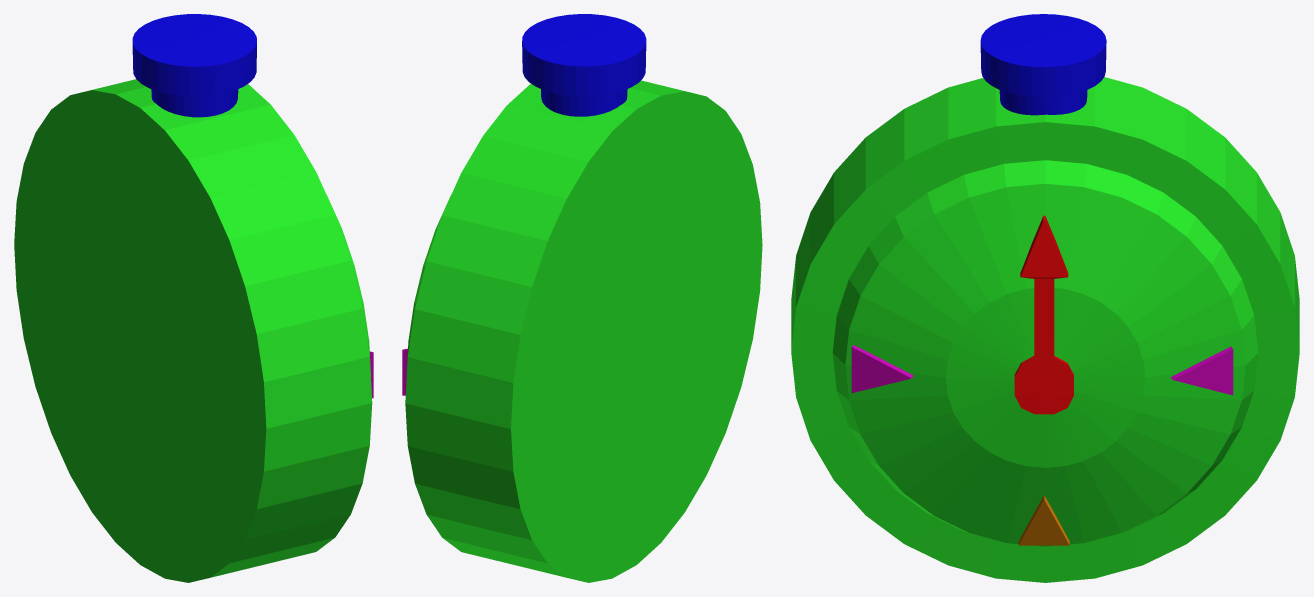
The model's file is M6BO_TimerLow_AmyKema.fbx.
The picture shows the model from 3 angles, left to right: view 1: azimuth 30°, elevation 25°; view 2: azimuth 150°, elevation 25°; view 3: azimuth 270°, elevation 25°; orthographic projection.
Parts seen in each view (by area): view 1: Timer_Low, Timerbutton_Low; view 2: Timer_Low, Timerbutton_Low; view 3: Timer_Low, Timerbutton_Low, Pointer_Low, TriangleSides_Low, TriangleBottom_Low.
Boxes of the visible parts, x1,y1,x2,y2 form: Timer_Low: [14, 79, 372, 582]; Timerbutton_Low: [132, 14, 256, 117]; Timer_Low: [405, 80, 762, 582]; Timerbutton_Low: [522, 14, 646, 116]; Timer_Low: [791, 77, 1299, 582]; Timerbutton_Low: [980, 14, 1106, 115]; Pointer_Low: [1014, 215, 1073, 414]; TriangleSides_Low: [851, 345, 1233, 395]; TriangleBottom_Low: [1018, 495, 1069, 545].
Size of the model in its own units: 98.44 by 283 by 252.
